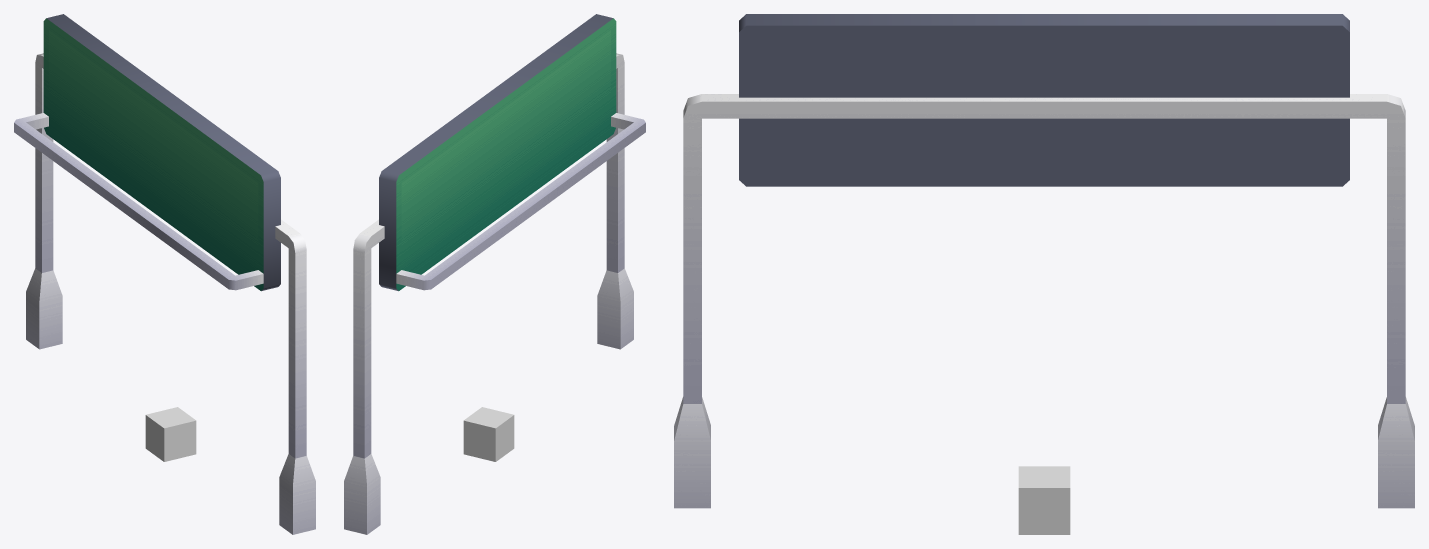
Rendered from func-start.glb.
3 renders of one model, left to right at view 1: azimuth 30°, elevation 25°; view 2: azimuth 150°, elevation 25°; view 3: azimuth 270°, elevation 25°, orthographic. The views are drawn at different scales.
Parts seen in each view (by area): view 1: start, startSpawnPoint; view 2: start, startSpawnPoint; view 3: start, startSpawnPoint.
Part boxes in pixels (x1,y1,x2,y2): start: (14, 14, 315, 534); startSpawnPoint: (145, 407, 196, 461); start: (344, 14, 645, 534); startSpawnPoint: (463, 407, 514, 461); start: (674, 14, 1414, 508); startSpawnPoint: (1018, 466, 1070, 534).
Bounding box in the file's own units: 0.1423 × 0.7423 × 1.
1 material, 1 textured.
